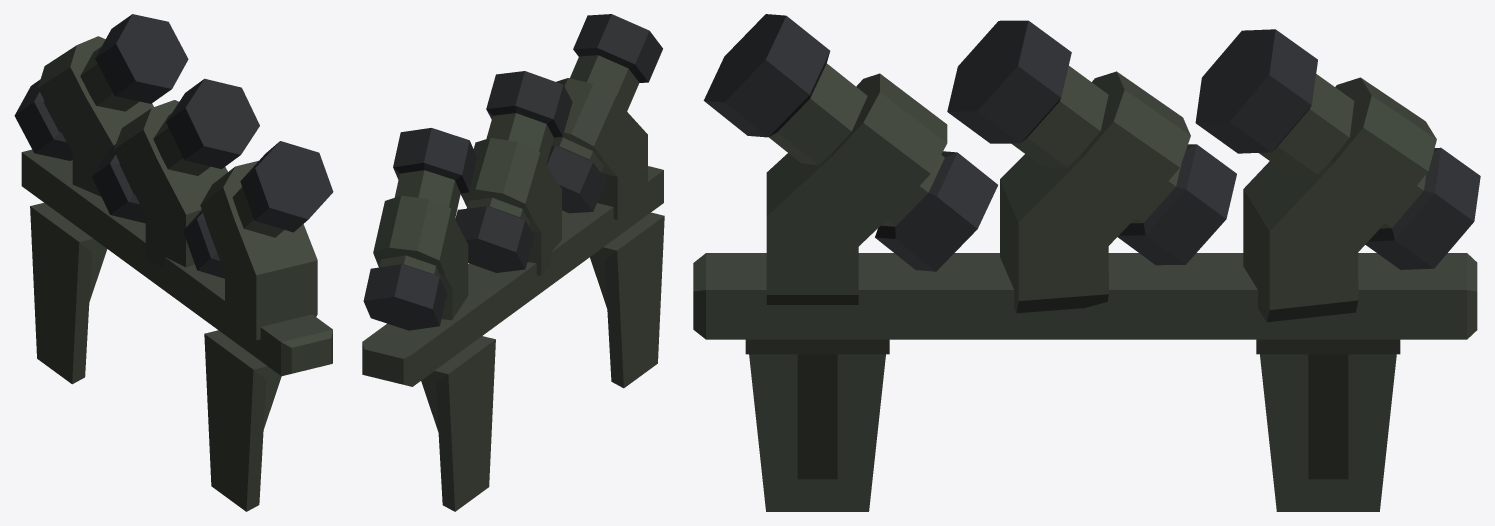
Rendered from SM_Veh_Attach_Flare_02.fbx.
3 renders of one model, left to right at view 1: azimuth 30°, elevation 25°; view 2: azimuth 150°, elevation 25°; view 3: azimuth 270°, elevation 25°, orthographic. The views are drawn at different scales.
Visible parts, largest first — view 1: SM_Veh_Attach_Flare_02; view 2: SM_Veh_Attach_Flare_02; view 3: SM_Veh_Attach_Flare_02.
Boxes of the visible parts, box(x1,y1,x2,y2) form: SM_Veh_Attach_Flare_02: box(14, 14, 333, 511); SM_Veh_Attach_Flare_02: box(362, 14, 664, 511); SM_Veh_Attach_Flare_02: box(693, 14, 1480, 511).
Bounding box in the file's own units: 12.93 × 42.2 × 57.71.
